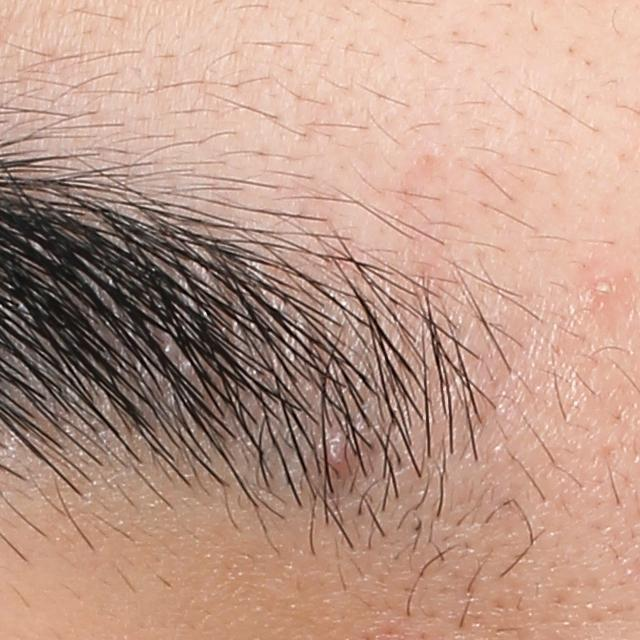papule: (314, 435, 358, 481)
pustule: (580, 263, 624, 307)
